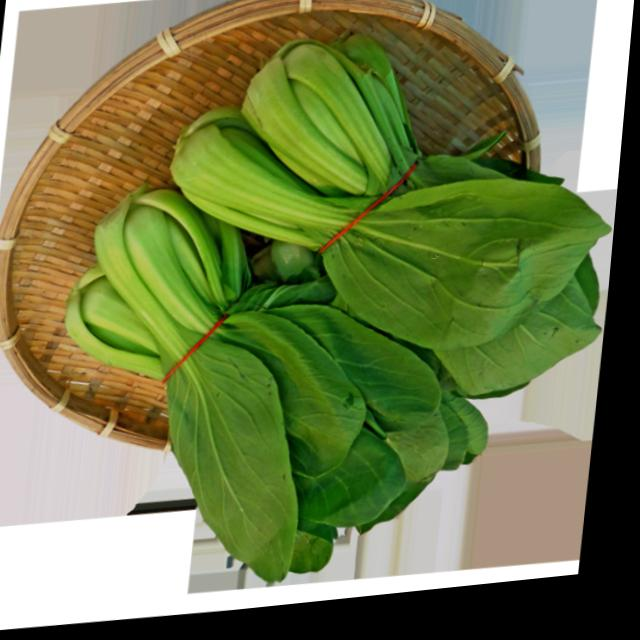chinese_cabbage: (27, 19, 607, 615)
